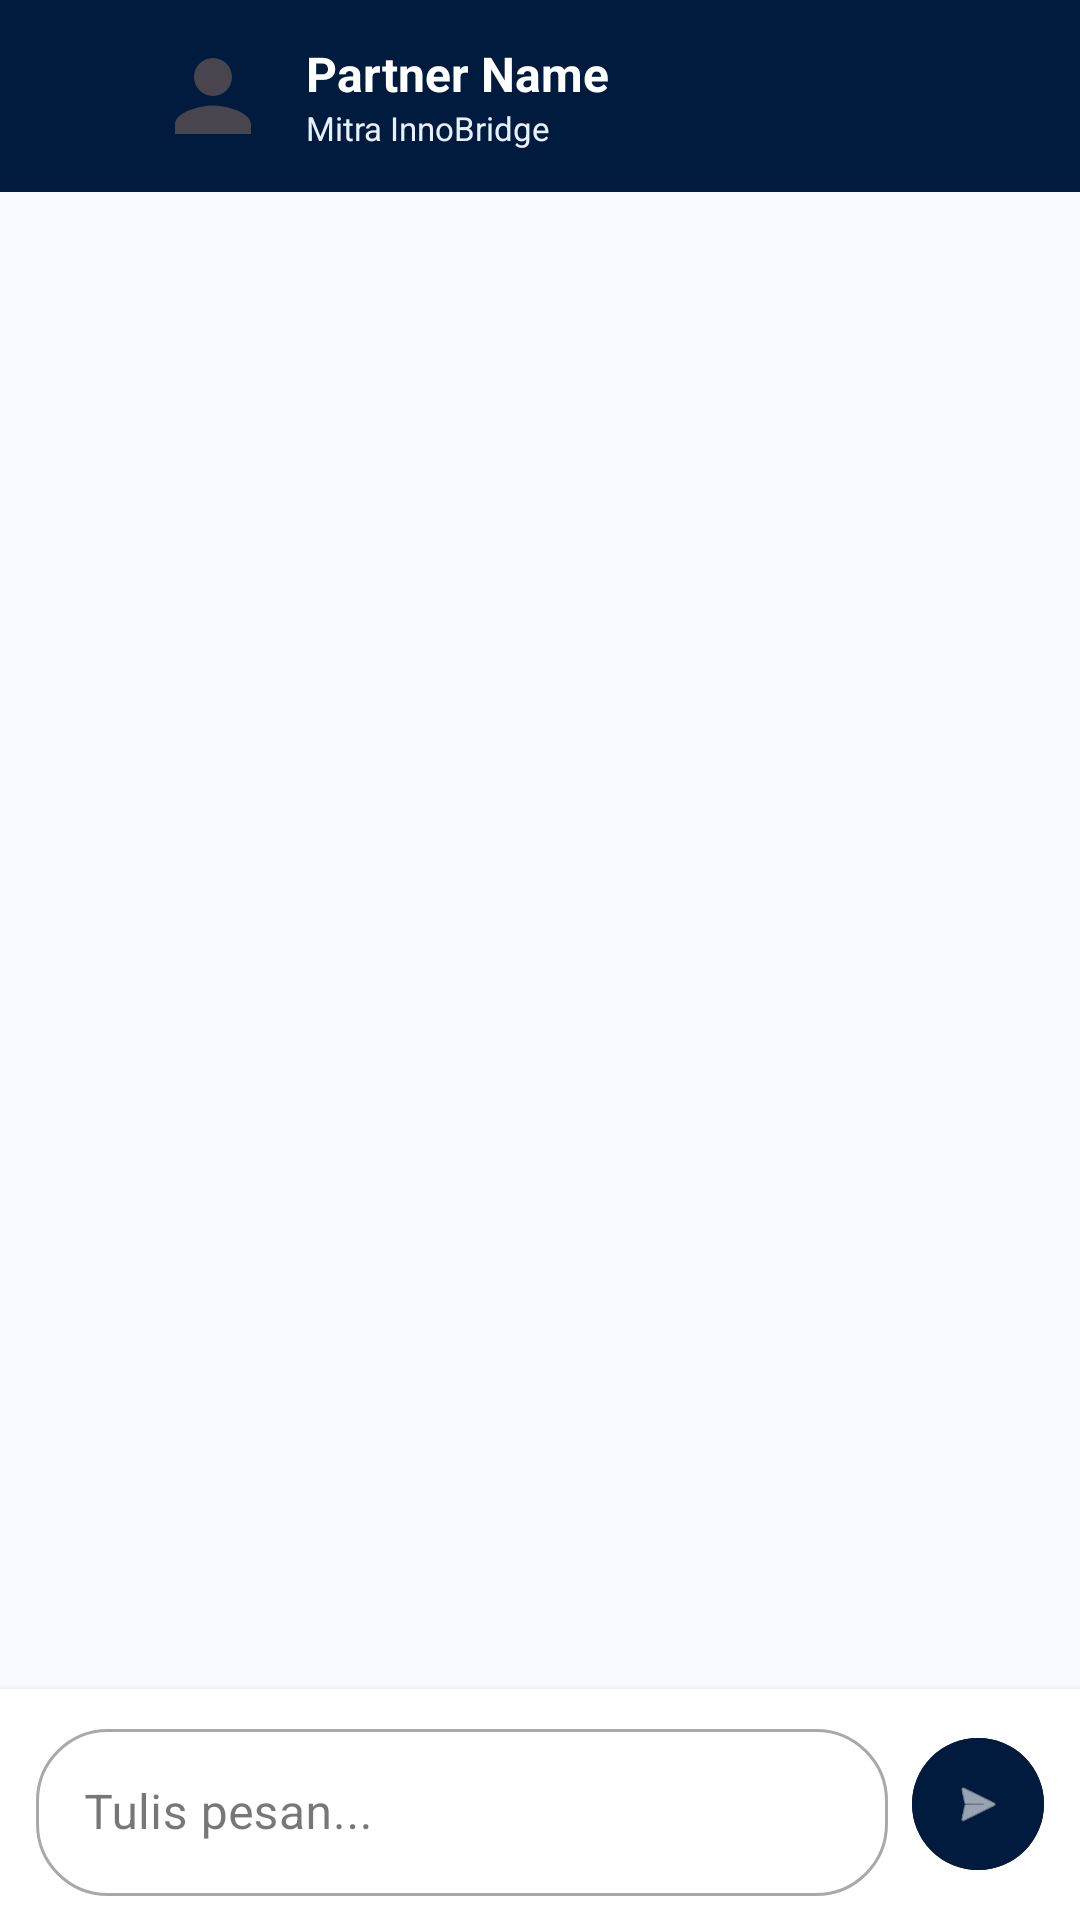

Locate icon controls on the screen. Image size 1080w x 1920h, boxes as {"x1": x1, "y1": y1, "x2": x2, "y2": y2}.
profile: {"x1": 175, "y1": 58, "x2": 251, "y2": 134}
send: {"x1": 912, "y1": 1738, "x2": 1044, "y2": 1870}
